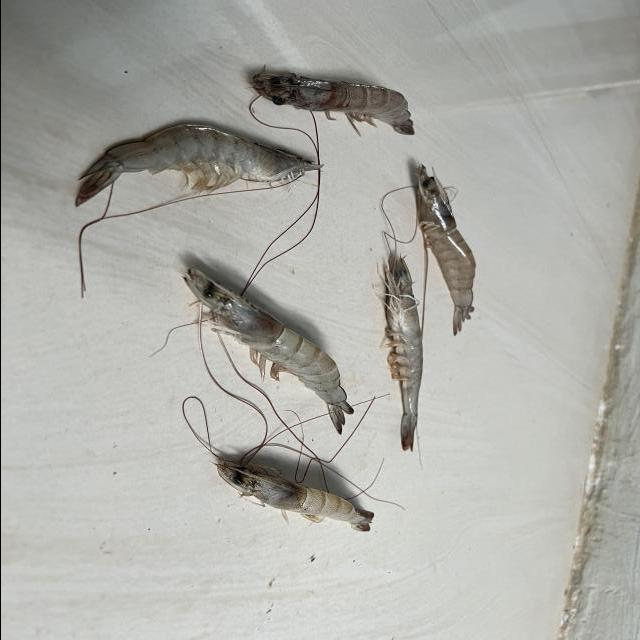shrimp: (184, 268, 353, 434), (74, 124, 322, 206), (216, 463, 373, 532), (252, 71, 414, 134), (418, 164, 476, 335), (380, 255, 423, 452)
